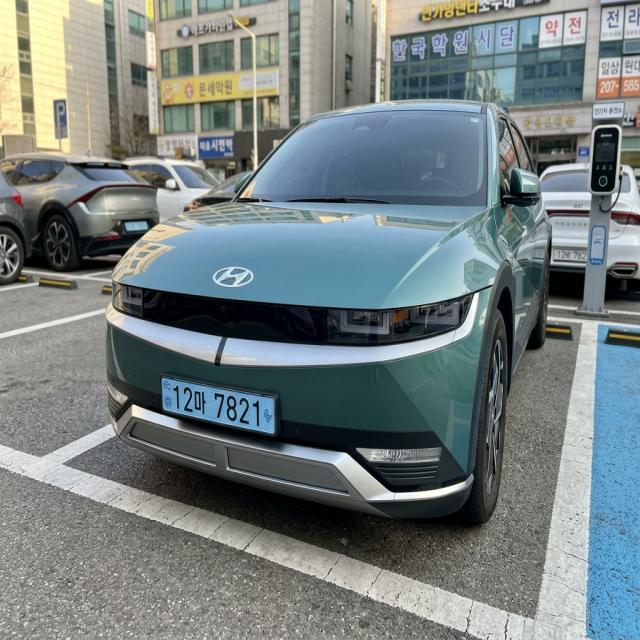car: (144, 363, 305, 452), (116, 216, 153, 235)
carev: (261, 391, 277, 440), (161, 372, 175, 416), (123, 218, 131, 233), (145, 215, 150, 232)
